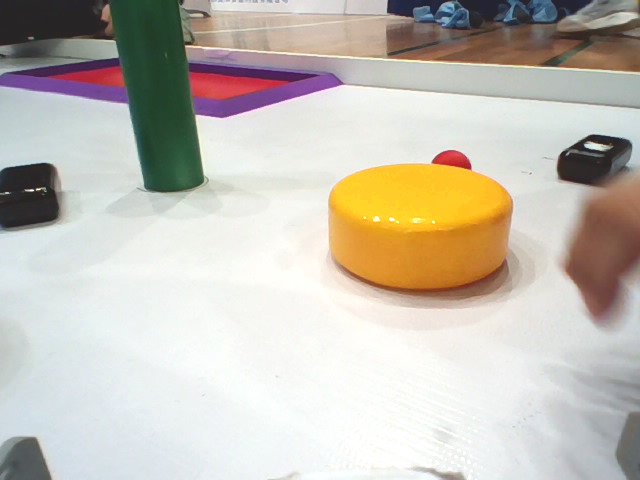black: (1, 150, 83, 241), (549, 125, 631, 199)
kuang: (1, 43, 354, 144)
red: (420, 139, 481, 174)
yellow: (319, 159, 518, 293)
zhuzi: (100, 1, 212, 199)
